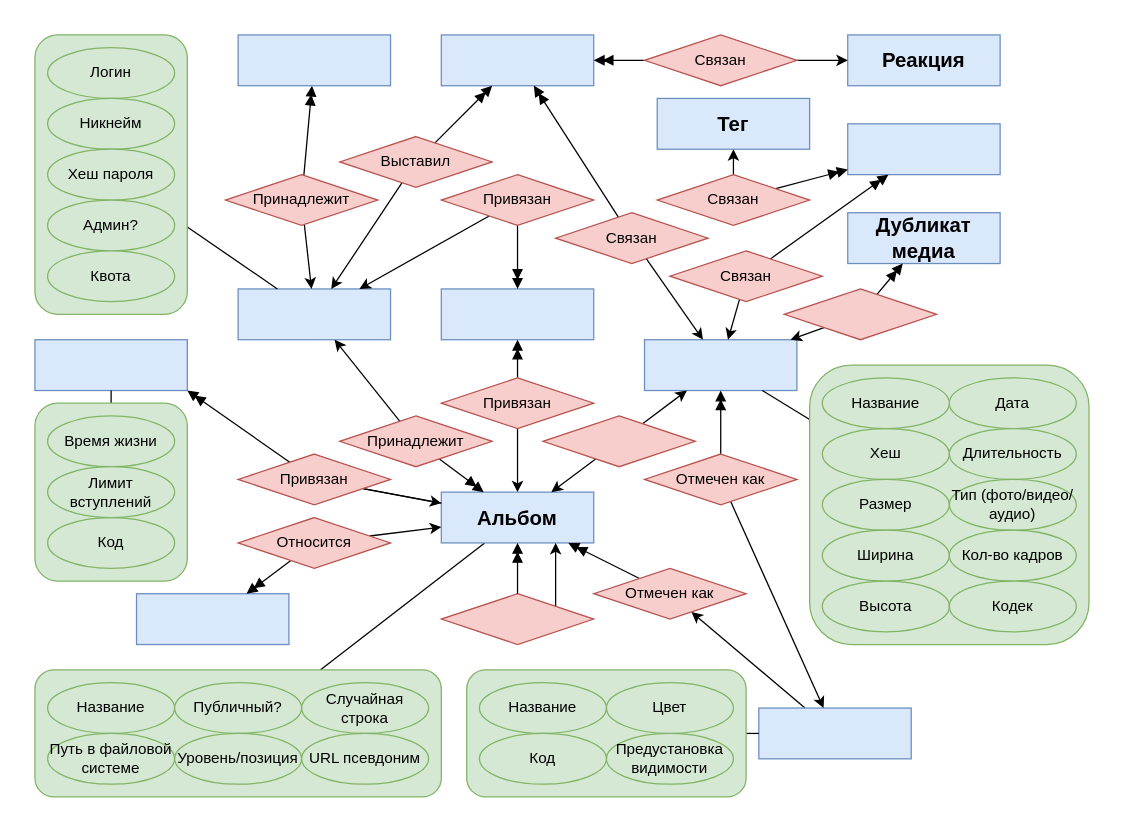
Some shapes in this 1123 by 831 pixel diagram are drawn without their labels. The shapes that lost their labels are listed below. From the top down, each one's centre as x and y in pixels, then its label:
At point (314, 60): "Токен".
At point (517, 60): "Реакция-Медиа".
At point (923, 149): "Тег-Медиа".
At point (314, 314): "Пользователь".
At point (517, 314): "Доступ к альбому".
At point (860, 314): "Дублирует".
At point (110, 364): "Приглашение".
At point (720, 364): "Медиа".
At point (618, 441): "Находится в".
At point (212, 618): "Вторичный URL псевдоним".
At point (517, 618): "Вложен".
At point (834, 733): "Возрастной рейтинг".
